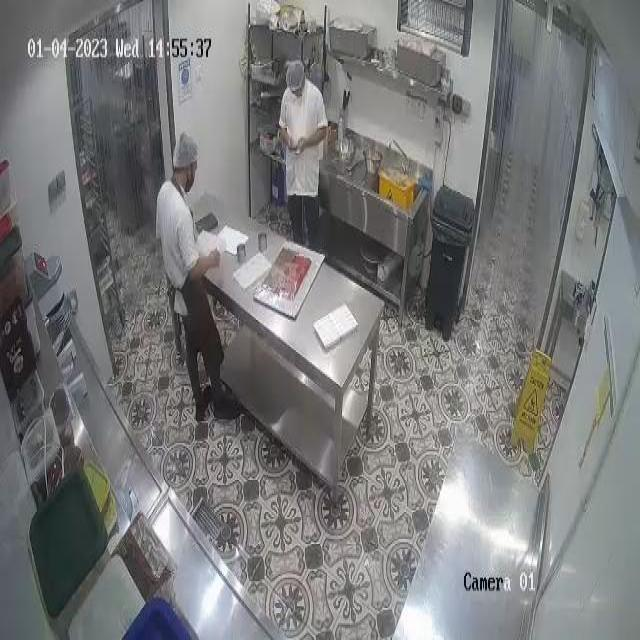hairnet: (173, 135, 199, 170), (284, 62, 304, 90)
